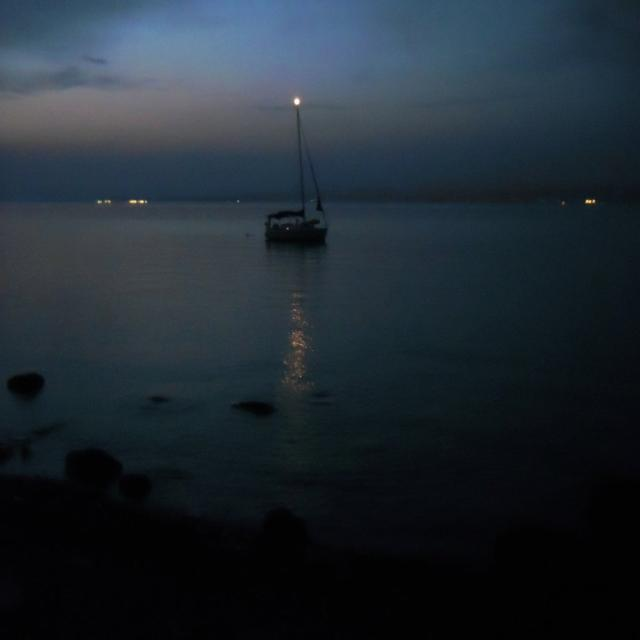Boat: (265, 114, 355, 267)
